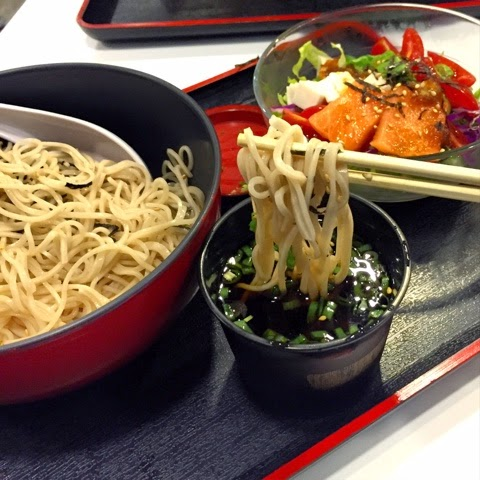Soba: (1, 137, 211, 340), (243, 118, 353, 321)
